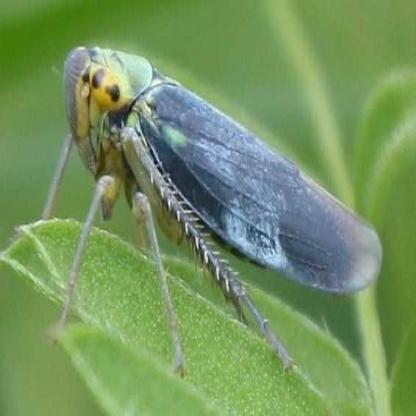Green-Leafhopper: (32, 42, 386, 359)
